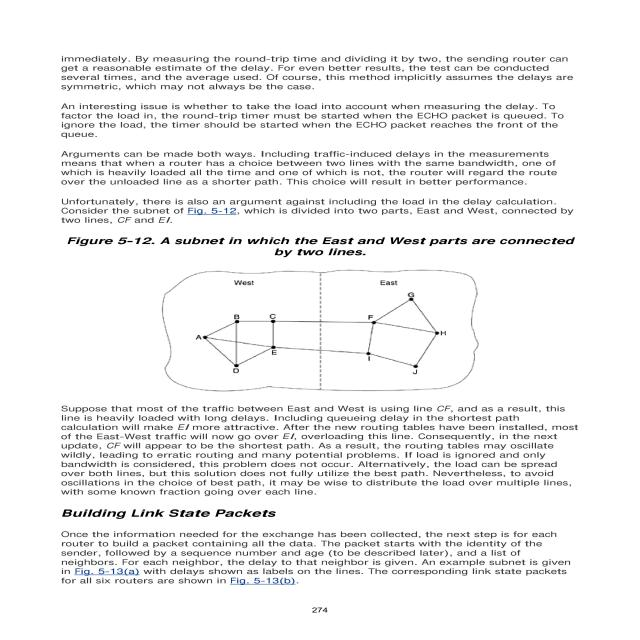diagram: (52, 230, 602, 398)
